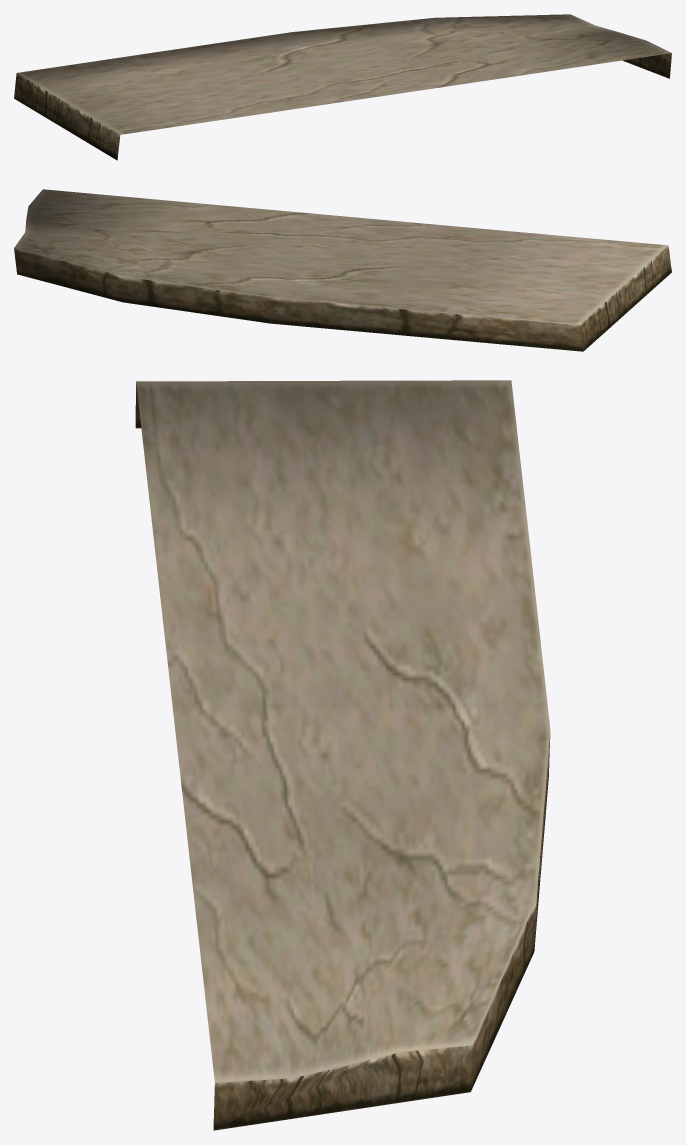
File: HTOWN01_BAGROW3PORCH.fbx
3 renders of one model, top to bottom at view 1: azimuth 30°, elevation 25°; view 2: azimuth 150°, elevation 25°; view 3: azimuth 270°, elevation 25°, orthographic. The views are drawn at different scales.
Visible parts, largest first — view 1: HTOWN01_BAGROW3PORCH; view 2: HTOWN01_BAGROW3PORCH; view 3: HTOWN01_BAGROW3PORCH.
Part boxes in pixels (left/top/right/bottom): HTOWN01_BAGROW3PORCH: left=14, top=14, right=671, bottom=160; HTOWN01_BAGROW3PORCH: left=14, top=189, right=671, bottom=351; HTOWN01_BAGROW3PORCH: left=135, top=380, right=550, bottom=1130.
Size of the model in its own units: 76628 by 12158 by 23563.
2 materials, 2 textured.
